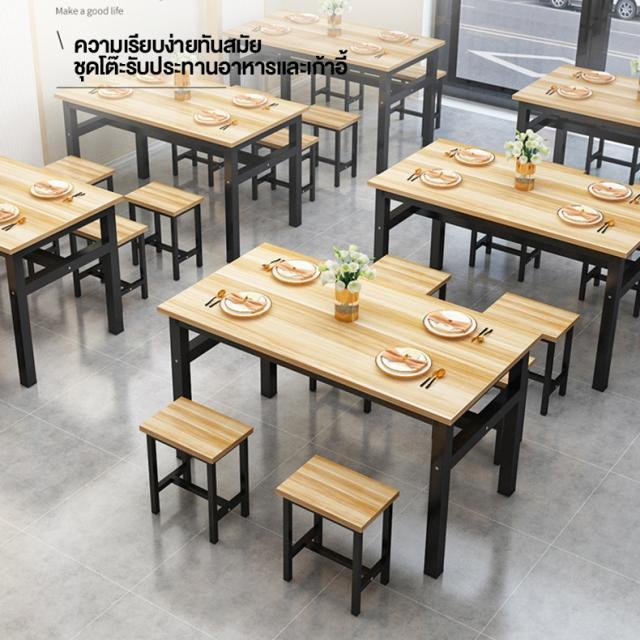table: (156, 235, 532, 406), (366, 120, 640, 256), (70, 52, 288, 162), (238, 11, 449, 87)
